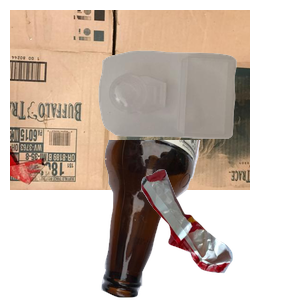cardboard: (10, 10, 250, 190)
glass: (99, 140, 300, 300)
plastic: (96, 48, 300, 179)
trash: (139, 167, 300, 300)
